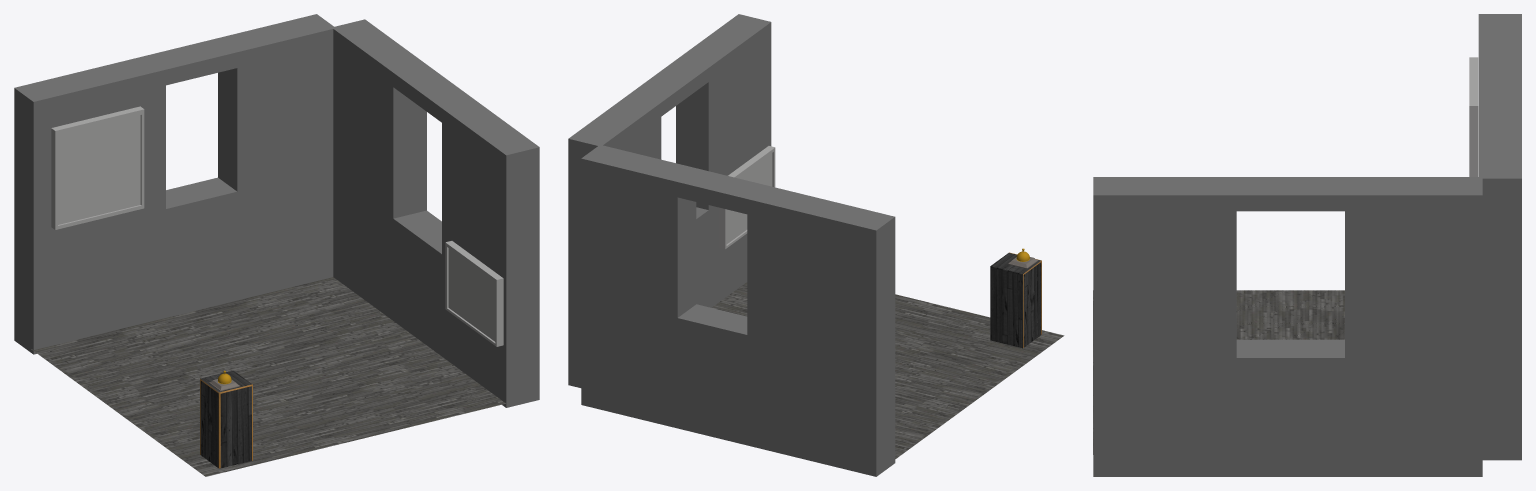
The model's file is SpiderRoomWithTextures.glb.
3 views of the same model, side by side, from view 1: azimuth 30°, elevation 25°; view 2: azimuth 150°, elevation 25°; view 3: azimuth 270°, elevation 25° (orthographic). The views are drawn at different scales.
Parts seen in each view (by area): view 1: WallLeft, WallRight, Floor, PictureLeft, BellBox, PictureRight; view 2: WallLeft, WallRight, Floor, BellBox, PictureRight; view 3: WallRight, WallLeft, Floor, PictureLeft.
Boxes of the visible parts, x1,y1,x2,y2 form: WallLeft: (14,14,333,354); WallRight: (332,19,539,407); Floor: (31,277,505,476); PictureLeft: (51,106,144,229); BellBox: (200,370,252,468); PictureRight: (445,241,503,346); WallLeft: (581,145,895,476); WallRight: (568,14,771,387); Floor: (712,282,1064,460); BellBox: (990,252,1041,348); PictureRight: (718,146,775,249); WallRight: (1093,177,1482,476); WallLeft: (1478,14,1521,460); Floor: (1093,290,1344,454); PictureLeft: (1469,57,1478,176).
Size of the model in its own units: 4.88 by 3.53 by 4.87.
6 materials, 3 textured.
